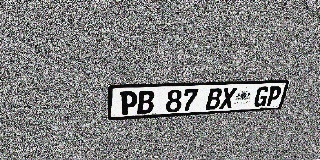plate: (108, 80, 291, 121)
